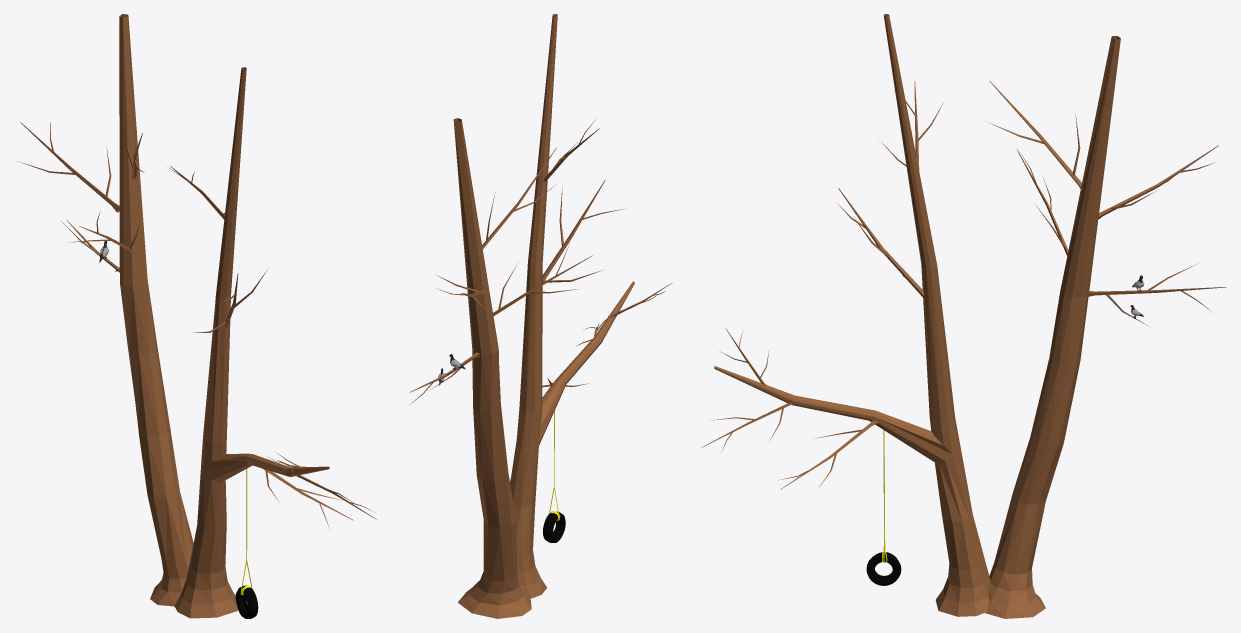
File: Town_Tree.fbx
3 renders of one model, left to right at view 1: azimuth 30°, elevation 25°; view 2: azimuth 150°, elevation 25°; view 3: azimuth 270°, elevation 25°, orthographic. The views are drawn at different scales.
Parts seen in each view (by area): view 1: SM_Town_Tree_01b.mo; view 2: SM_Town_Tree_01b.mo; view 3: SM_Town_Tree_01b.mo.
Part boxes in pixels (x1,y1,x2,y2): SM_Town_Tree_01b.mo: [17, 14, 376, 618]; SM_Town_Tree_01b.mo: [407, 14, 672, 618]; SM_Town_Tree_01b.mo: [701, 14, 1226, 618].
Size of the model in its own units: 418 by 1322 by 1065.
